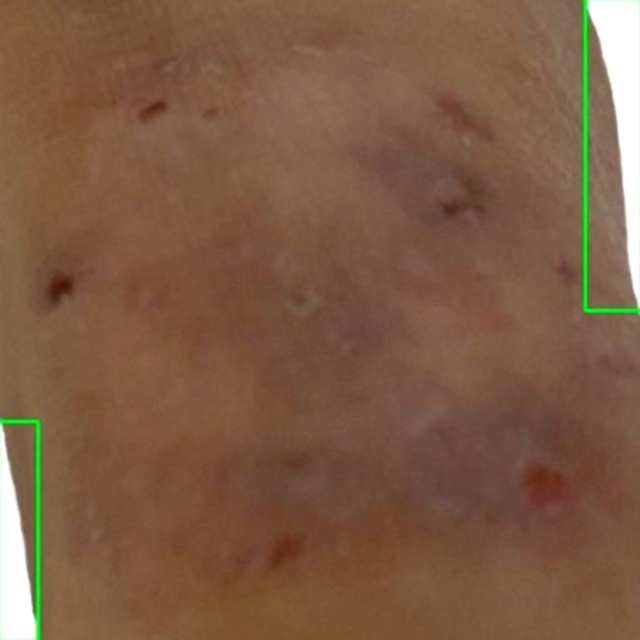Tinea Corporis: (585, 0, 639, 310), (0, 421, 38, 639)
